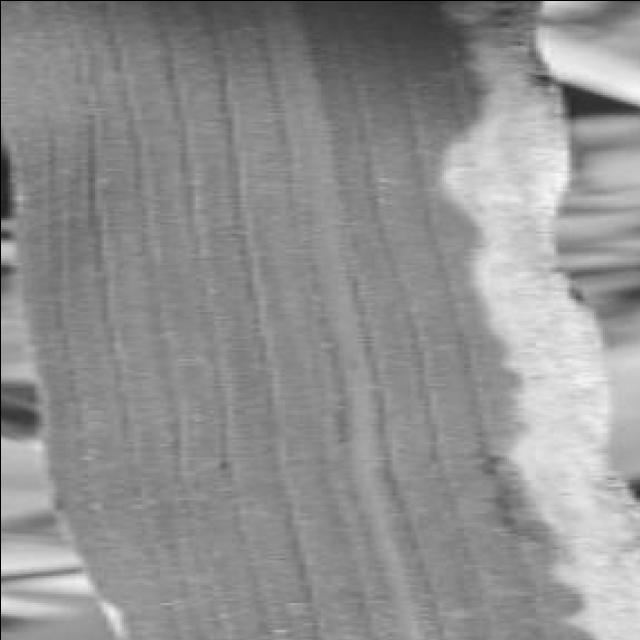Bacterial_Leaf_Blight: (293, 0, 600, 640)
